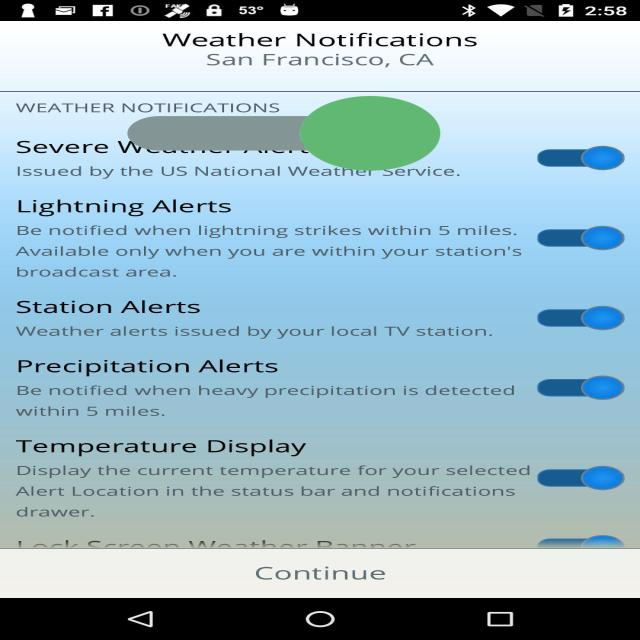social proof: (127, 50, 440, 217)
